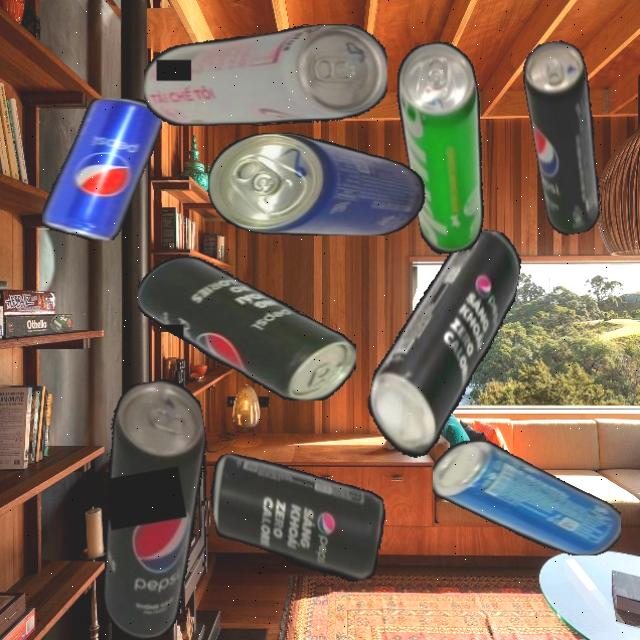debris: (68, 374, 238, 640), (360, 215, 526, 476), (204, 430, 396, 602), (138, 255, 356, 400), (390, 37, 504, 257), (143, 24, 387, 126), (208, 132, 432, 235), (432, 441, 621, 555), (518, 37, 614, 238), (41, 98, 162, 240)
